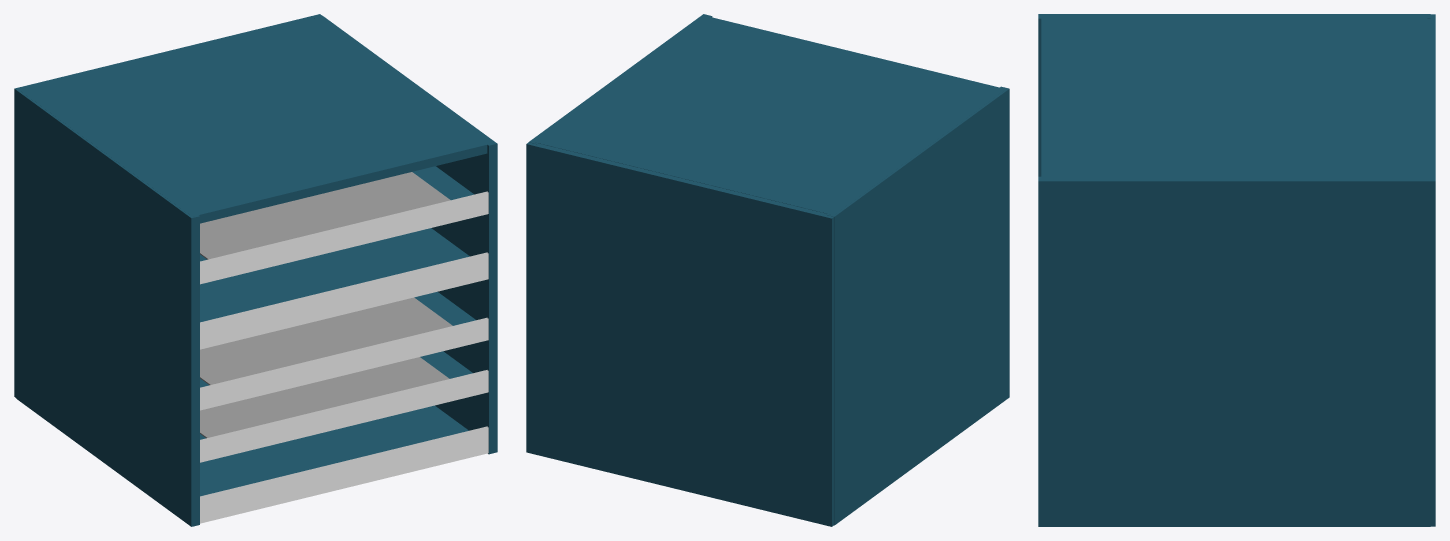
The model's file is Base de hojas.fbx.
The picture shows the model from 3 angles, left to right: view 1: azimuth 30°, elevation 25°; view 2: azimuth 150°, elevation 25°; view 3: azimuth 270°, elevation 25°; orthographic projection. The views are drawn at different scales.
Visible parts, largest first — view 1: Cubo.048, Cubo.052, Cubo.054, Cubo.047, Cubo.045, Cubo.055, Cubo.056, Cubo.051, Cubo.057, Cubo.053, Cubo.049, Cubo.046 (+1 smaller); view 2: Cubo.053, Cubo.048, Cubo.052, Cubo.047; view 3: Cubo.047, Cubo.052, Cubo.053, Cubo.048.
Boxes of the visible parts, bbox=[...] form: Cubo.048: bbox=[16, 88, 199, 526]; Cubo.052: bbox=[20, 18, 489, 223]; Cubo.054: bbox=[200, 191, 488, 523]; Cubo.047: bbox=[314, 15, 497, 454]; Cubo.045: bbox=[200, 228, 469, 322]; Cubo.055: bbox=[200, 297, 452, 385]; Cubo.056: bbox=[200, 172, 450, 259]; Cubo.051: bbox=[200, 405, 468, 496]; Cubo.057: bbox=[200, 357, 449, 438]; Cubo.053: bbox=[14, 14, 321, 397]; Cubo.049: bbox=[200, 291, 475, 387]; Cubo.046: bbox=[200, 166, 473, 261]; Cubo.053: bbox=[526, 142, 834, 526]; Cubo.048: bbox=[826, 86, 1009, 525]; Cubo.052: bbox=[535, 16, 1005, 215]; Cubo.047: bbox=[529, 14, 712, 144]; Cubo.047: bbox=[1038, 176, 1430, 526]; Cubo.052: bbox=[1041, 15, 1427, 178]; Cubo.053: bbox=[1427, 14, 1435, 526]; Cubo.048: bbox=[1038, 14, 1430, 176].
Bounding box in the file's own units: 3508 × 3495 × 3369.
